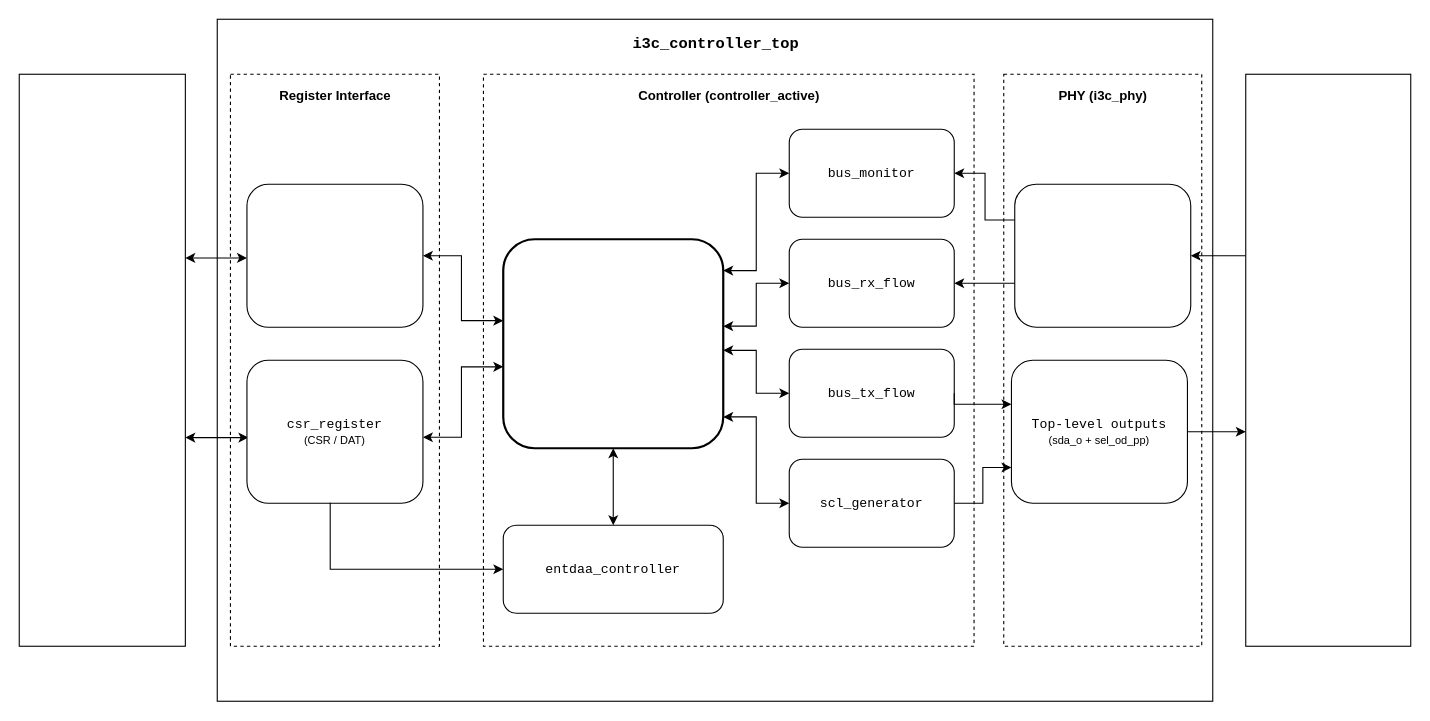
Some shapes in this 1430 by 721 pixel diagram are drawn without their labels. The centre of each missing label's shape, as x and y in pixels:
"2FF synchronizer (SCL / SDA input)" goes at (1102,255).
"Bus I3C / I²C SDA / SCL" goes at (1328,359).
"flow_active Central FSM" goes at (613,343).
"hci_queues (CMD / TX / RX / RESP)" goes at (334,255).
"Host 32-bit register bus (addr / wdata / rdata)" goes at (101,359).
